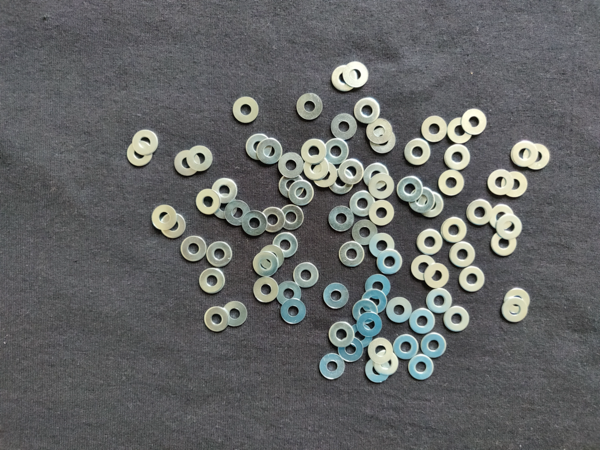circle: (337, 240, 366, 270), (199, 268, 228, 297), (202, 306, 230, 335), (317, 353, 346, 381), (368, 231, 396, 260), (523, 144, 551, 173), (173, 148, 200, 178), (311, 160, 338, 190), (367, 173, 397, 200), (224, 200, 252, 228), (293, 262, 321, 290), (322, 283, 350, 311), (376, 249, 404, 277), (296, 93, 324, 121), (353, 97, 381, 125), (387, 296, 415, 324), (210, 177, 239, 204), (252, 276, 279, 305), (233, 96, 260, 125), (501, 298, 530, 325), (448, 241, 477, 268), (415, 229, 444, 256), (446, 117, 475, 144), (329, 206, 355, 236), (274, 281, 302, 308), (352, 218, 379, 246), (349, 190, 376, 218), (369, 200, 397, 227), (331, 64, 358, 92), (408, 354, 435, 382), (410, 307, 437, 335), (443, 306, 471, 333), (466, 198, 493, 226), (161, 213, 187, 242), (276, 152, 305, 178), (331, 112, 357, 141), (364, 161, 390, 190), (503, 288, 532, 314), (416, 193, 445, 219), (405, 137, 431, 166), (421, 115, 447, 144), (444, 145, 473, 171), (462, 108, 488, 137), (187, 145, 214, 172), (222, 302, 249, 329), (328, 321, 355, 348), (370, 128, 397, 155), (459, 266, 486, 293), (501, 172, 528, 199), (124, 141, 152, 167), (211, 193, 239, 219), (289, 179, 315, 207), (257, 139, 283, 167), (365, 275, 393, 301), (328, 168, 354, 196), (365, 118, 393, 144), (343, 61, 369, 89), (149, 205, 178, 230), (206, 242, 235, 267), (196, 189, 221, 218), (280, 202, 304, 232), (246, 132, 270, 162), (132, 130, 159, 156), (180, 236, 206, 263), (252, 252, 279, 278), (279, 173, 306, 199), (347, 324, 373, 351), (352, 301, 379, 327), (362, 290, 389, 316), (441, 217, 468, 243), (408, 188, 435, 214), (487, 169, 513, 196), (425, 290, 453, 315), (496, 214, 524, 239), (281, 299, 307, 325), (339, 158, 365, 184), (364, 359, 390, 385), (367, 338, 393, 364), (242, 211, 269, 236), (258, 245, 285, 270), (393, 334, 418, 361), (411, 255, 436, 282), (397, 175, 422, 202), (439, 171, 466, 196), (513, 140, 538, 167), (272, 235, 300, 259), (324, 138, 350, 163), (421, 334, 447, 359), (491, 231, 517, 256), (424, 264, 451, 288), (489, 204, 516, 228), (373, 352, 398, 377), (302, 139, 326, 165), (357, 314, 382, 338), (338, 339, 364, 362), (304, 157, 329, 180), (262, 207, 284, 233)
